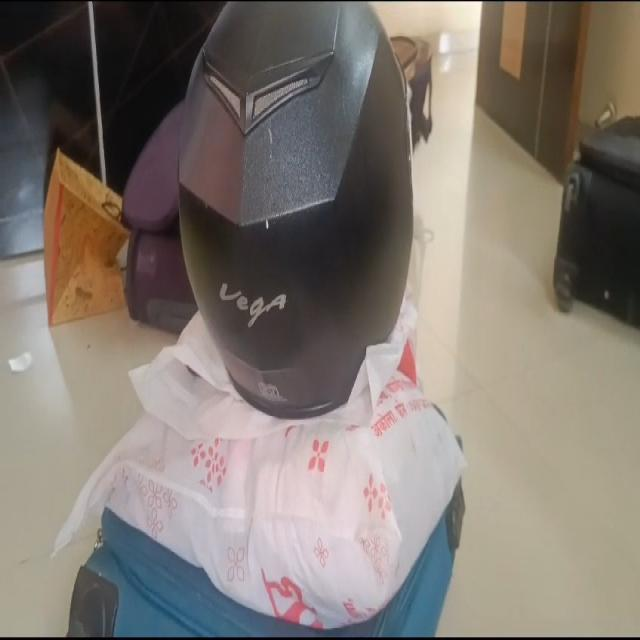Helmet: (174, 7, 415, 424)
